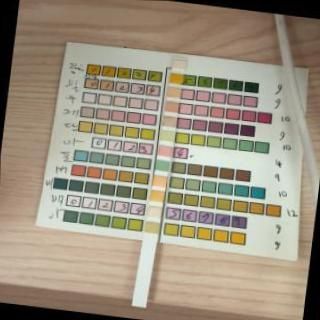mark: (147, 205, 160, 218), (158, 145, 172, 156), (155, 160, 169, 171), (144, 222, 158, 233), (167, 86, 179, 98), (166, 100, 178, 112), (151, 191, 164, 202), (162, 116, 176, 126), (154, 176, 166, 187), (161, 130, 174, 140), (170, 73, 182, 83), (171, 60, 184, 68)
